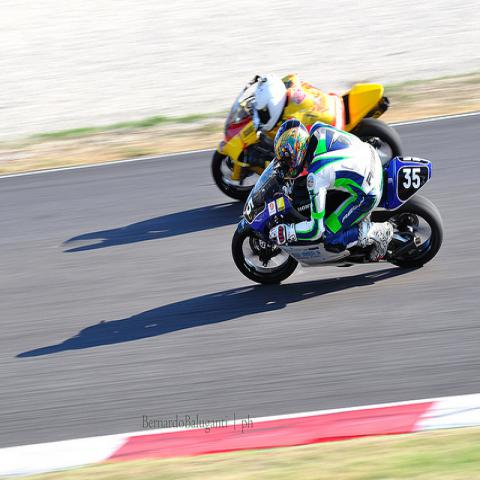motorcycle: (230, 158, 443, 286), (209, 71, 408, 204)
